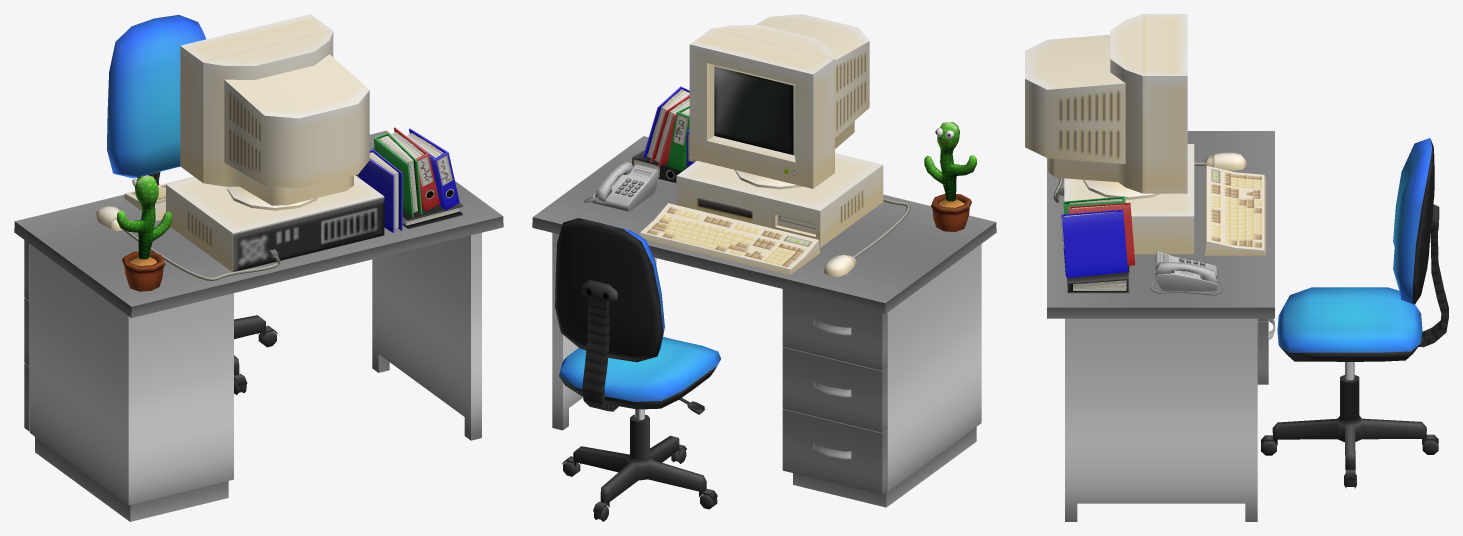
The model's file is 90s_stylized_office.glb.
3 renders of one model, left to right at view 1: azimuth 30°, elevation 25°; view 2: azimuth 150°, elevation 25°; view 3: azimuth 270°, elevation 25°, orthographic. The views are drawn at different scales.
Visible parts, largest first — view 1: Table, Computer, Case, Chair.Spine, Cactus, Folder, Folder.002, Folder.004, Folder.003, Chair, Mouse, Folder.001 (+1 smaller); view 2: Table, Computer, Chair.Spine, Case, Keyboard, drawer, drawer2, drawer3, Chair, Cactus, Phone, Folder.002 (+5 smaller); view 3: Table, Computer, Chair.Spine, Keyboard, Chair, Case, Folder.004, Phone, Folder.001, Folder.003, Mouse, drawer (+1 smaller).
Part boxes in pixels (left/top/right/bottom): Table: left=14, top=130, right=503, bottom=521; Computer: left=180, top=14, right=369, bottom=210; Case: left=166, top=175, right=384, bottom=272; Chair.Spine: left=107, top=15, right=205, bottom=185; Cactus: left=116, top=175, right=172, bottom=291; Folder: left=358, top=149, right=402, bottom=232; Folder.002: left=373, top=132, right=422, bottom=217; Folder.004: left=406, top=128, right=459, bottom=210; Folder.003: left=385, top=127, right=439, bottom=211; Chair: left=234, top=315, right=277, bottom=394; Mouse: left=96, top=206, right=279, bottom=280; Folder.001: left=402, top=202, right=462, bottom=228; Table: left=532, top=136, right=996, bottom=507; Computer: left=689, top=14, right=869, bottom=189; Chair.Spine: left=555, top=218, right=720, bottom=414; Case: left=676, top=153, right=883, bottom=247; Keyboard: left=639, top=203, right=819, bottom=274; drawer: left=782, top=408, right=887, bottom=494; drawer2: left=782, top=347, right=887, bottom=432; drawer3: left=782, top=289, right=887, bottom=370; Chair: left=562, top=409, right=717, bottom=521; Cactus: left=924, top=122, right=976, bottom=231; Phone: left=592, top=164, right=658, bottom=211; Folder.002: left=667, top=105, right=689, bottom=171; Table: left=1047, top=131, right=1274, bottom=521; Computer: left=1025, top=14, right=1187, bottom=199; Chair.Spine: left=1277, top=138, right=1448, bottom=361; Keyboard: left=1204, top=165, right=1265, bottom=255; Chair: left=1261, top=362, right=1438, bottom=488; Case: left=1064, top=144, right=1194, bottom=254; Folder.004: left=1061, top=209, right=1127, bottom=277; Phone: left=1155, top=251, right=1217, bottom=291; Folder.001: left=1067, top=265, right=1129, bottom=293; Folder.003: left=1068, top=202, right=1135, bottom=265; Mouse: left=1053, top=152, right=1246, bottom=202; drawer: left=1258, top=318, right=1274, bottom=384.
Size of the model in its own units: 1.75 by 1.82 by 1.77.
6 materials, 6 textured.
